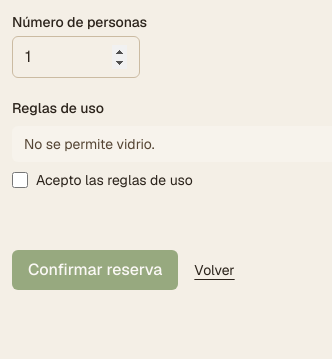
it: H7. Reserva de un área común › AC1: las personas deben ser un entero de 1 al aforo y la casilla es obligatoria
Replace the text in the number field labelled "Número de personas" with "0" at (76, 57), box left=12, top=36, right=140, bottom=78
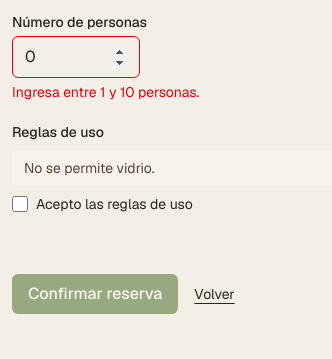
Now the text "Ingresa entre 1 y 10 personas." is shown, box left=12, top=83, right=199, bottom=101
Replace the text in the number field labelled "Número de personas" with "11" at (76, 57), box left=12, top=36, right=140, bottom=78
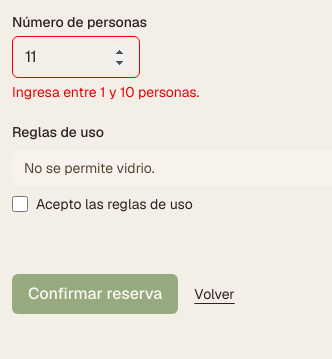
Now the text "Ingresa entre 1 y 10 personas." is shown, box left=12, top=83, right=199, bottom=101
Click the checkbox labelled "Acepto las reglas de uso" at (20, 204), box left=12, top=196, right=28, bottom=212
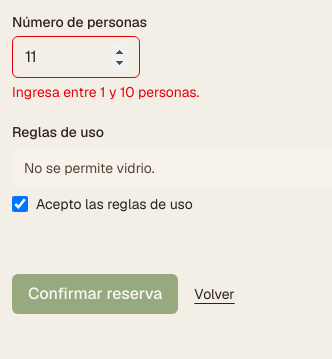
Click the checkbox labelled "Acepto las reglas de uso" at (20, 204), box left=12, top=196, right=28, bottom=212
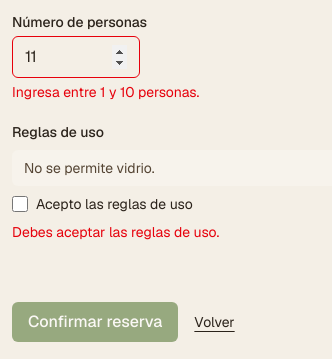
Expected: the button "Confirmar reserva" is disabled, left=12, top=302, right=178, bottom=342
Now the text "Debes aceptar las reglas de uso." is shown, box left=12, top=223, right=219, bottom=241
Replace the text in the number field labelled "Número de personas" with "10" at (76, 57), box left=12, top=36, right=140, bottom=78
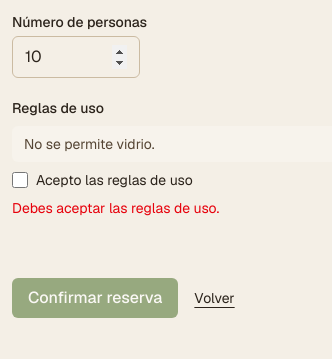
Click the checkbox labelled "Acepto las reglas de uso" at (20, 180), box left=12, top=172, right=28, bottom=188
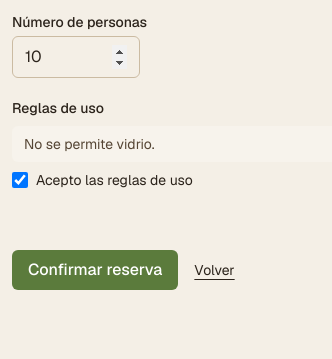
Expected: the text "Ingresa entre" is not shown
Now the text "Debes aceptar las reglas de uso." is gone
Now the button "Confirmar reserva" is enabled, box left=12, top=250, right=178, bottom=290
